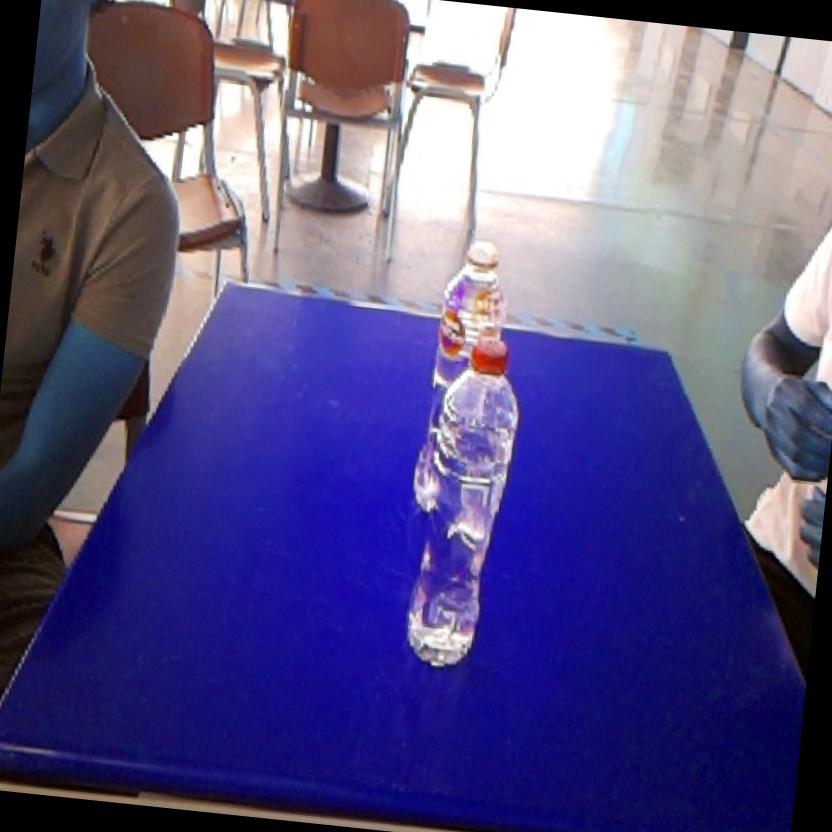no_cap: (432, 228, 526, 333)
no_label: (396, 329, 532, 680)
